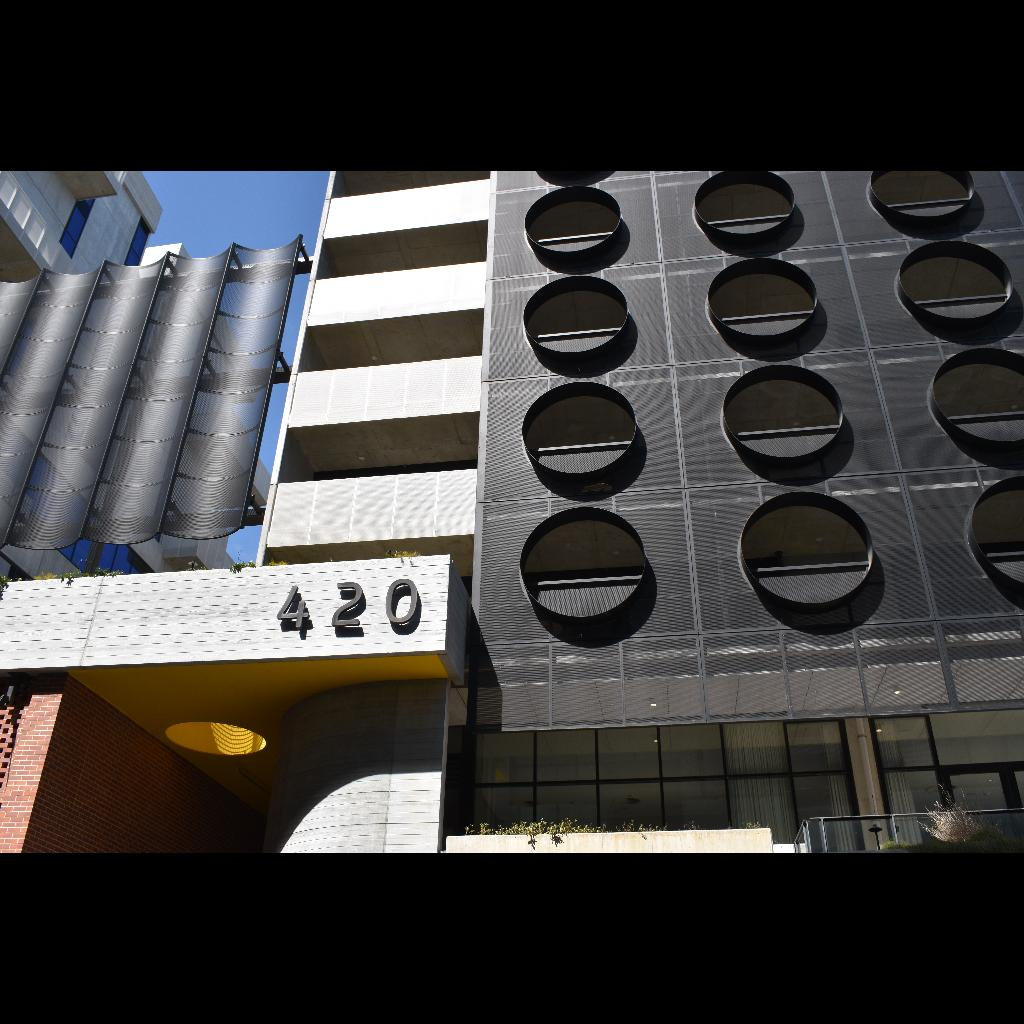BuildingCodes: (273, 574, 423, 638)
